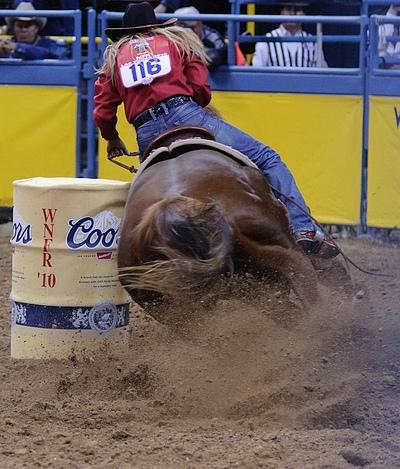person: (95, 4, 342, 267)
